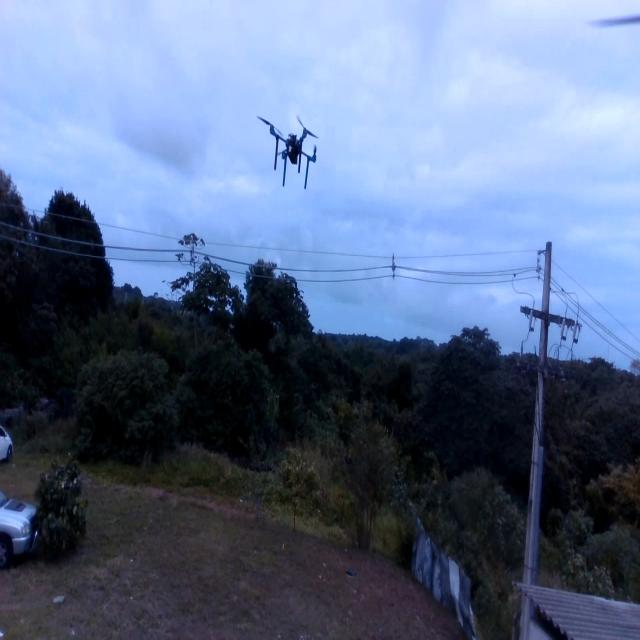-uav-: (255, 104, 326, 195)
